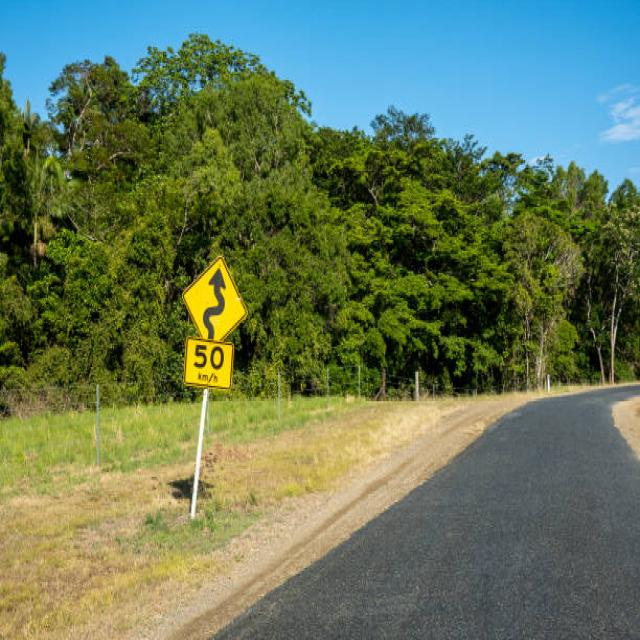left_sharp_curve: (184, 250, 254, 344)
